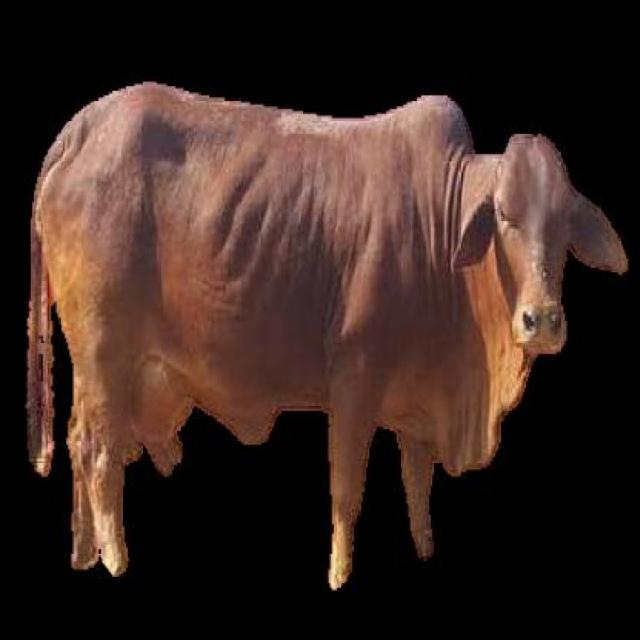Cow: (28, 85, 629, 588)
